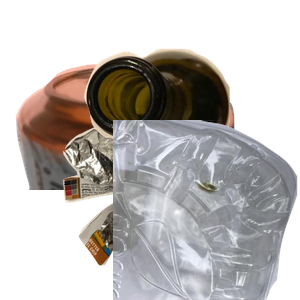glass: (82, 46, 300, 199)
metal: (13, 61, 240, 241)
plastic: (113, 120, 300, 300)
trash: (61, 123, 273, 300)
